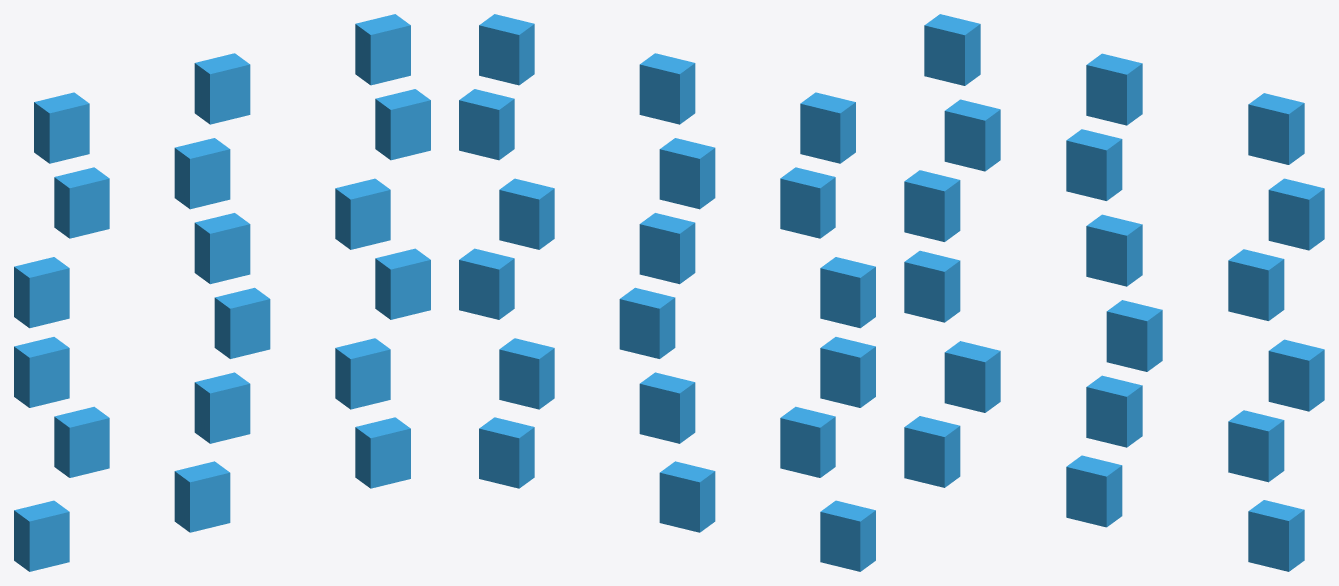
File: ColdRain.fbx
The picture shows the model from 3 angles, left to right: view 1: azimuth 30°, elevation 25°; view 2: azimuth 150°, elevation 25°; view 3: azimuth 330°, elevation 25°; orthographic projection.
Parts seen in each view (by area): view 1: Cube.002, Cube.001, Cube.003, Cube.004, Cube.005, Cube.045, Cube.006, Cube.007, Cube.016, Cube.026, Cube.028, Cube.030 (+6 smaller); view 2: Cube.002, Cube.001, Cube.003, Cube.004, Cube.005, Cube.045, Cube.006, Cube.007, Cube.016, Cube.026, Cube.028, Cube.030 (+6 smaller); view 3: Cube.005, Cube.007, Cube.026, Cube.029, Cube.030, Cube.031, Cube.045, Cube.001, Cube.002, Cube.004, Cube.016, Cube.018 (+6 smaller).
Boxes of the visible parts, box(x1,y1,x2,y2) form: Cube.002: box(194, 372, 250, 443); Cube.001: box(174, 138, 230, 209); Cube.003: box(214, 287, 270, 358); Cube.004: box(194, 53, 250, 124); Cube.005: box(174, 461, 230, 532); Cube.045: box(194, 213, 250, 284); Cube.006: box(14, 500, 69, 571); Cube.007: box(355, 417, 410, 488); Cube.016: box(54, 167, 109, 238); Cube.026: box(34, 92, 89, 163); Cube.028: box(375, 89, 430, 160); Cube.030: box(375, 248, 430, 319); Cube.002: box(639, 372, 695, 443); Cube.001: box(659, 138, 715, 209); Cube.003: box(619, 287, 675, 358); Cube.004: box(639, 53, 695, 124); Cube.005: box(659, 461, 715, 532); Cube.045: box(639, 213, 695, 284); Cube.006: box(820, 500, 875, 571); Cube.007: box(479, 417, 534, 488); Cube.016: box(780, 167, 835, 238); Cube.026: box(800, 92, 855, 163); Cube.028: box(459, 89, 514, 160); Cube.030: box(459, 248, 514, 319); Cube.005: box(1066, 455, 1122, 527); Cube.007: box(1248, 500, 1304, 571); Cube.026: box(924, 14, 980, 85); Cube.029: box(1228, 410, 1284, 482); Cube.030: box(1268, 339, 1324, 411); Cube.031: box(1248, 93, 1304, 164); Cube.045: box(1086, 214, 1142, 286); Cube.001: box(1066, 129, 1122, 200); Cube.002: box(1086, 375, 1142, 447); Cube.004: box(1086, 53, 1142, 125); Cube.016: box(944, 99, 1000, 171); Cube.018: box(904, 250, 960, 322).
Bounding box in the file's own units: 150 × 162 × 10.
